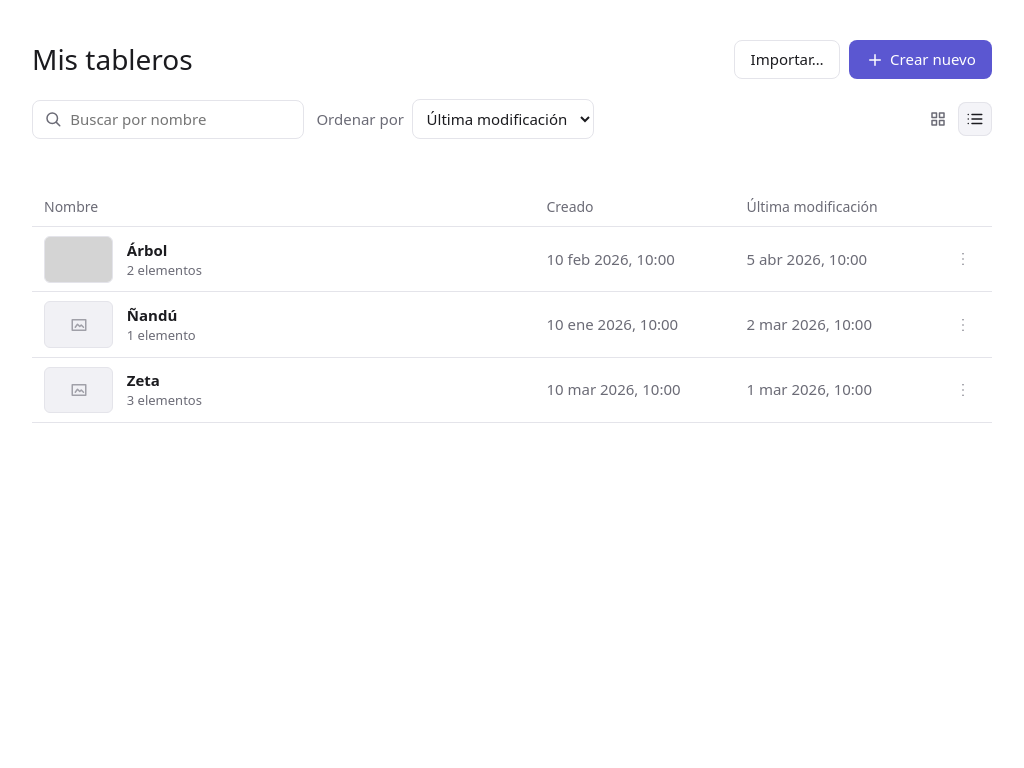
Test: delete › asks first, explains it goes to the trash, and only then deletes
Check: the heading "Mis tableros" is shown, box 32,40 -> 193,79
Check: the link "Ñandú" is shown, box 127,305 -> 177,325
Click the button named "Opciones de «Zeta»": x=963, y=390 946,373 -> 980,407
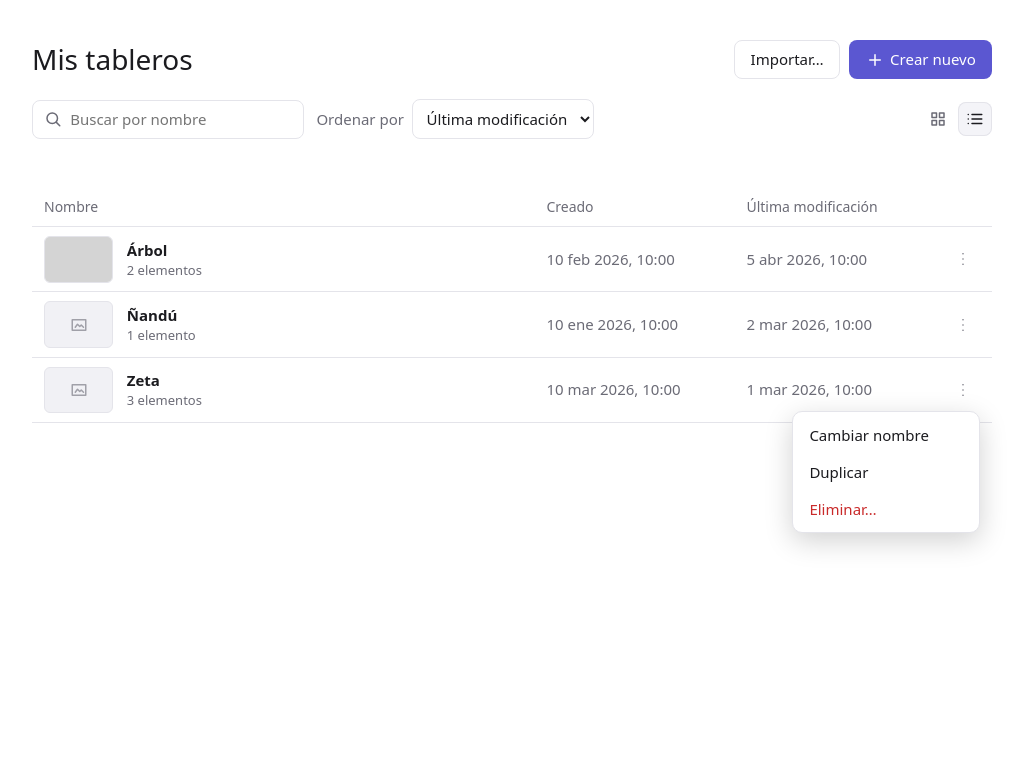
Click the menu item "Eliminar…": x=886, y=509 798,490 -> 974,528
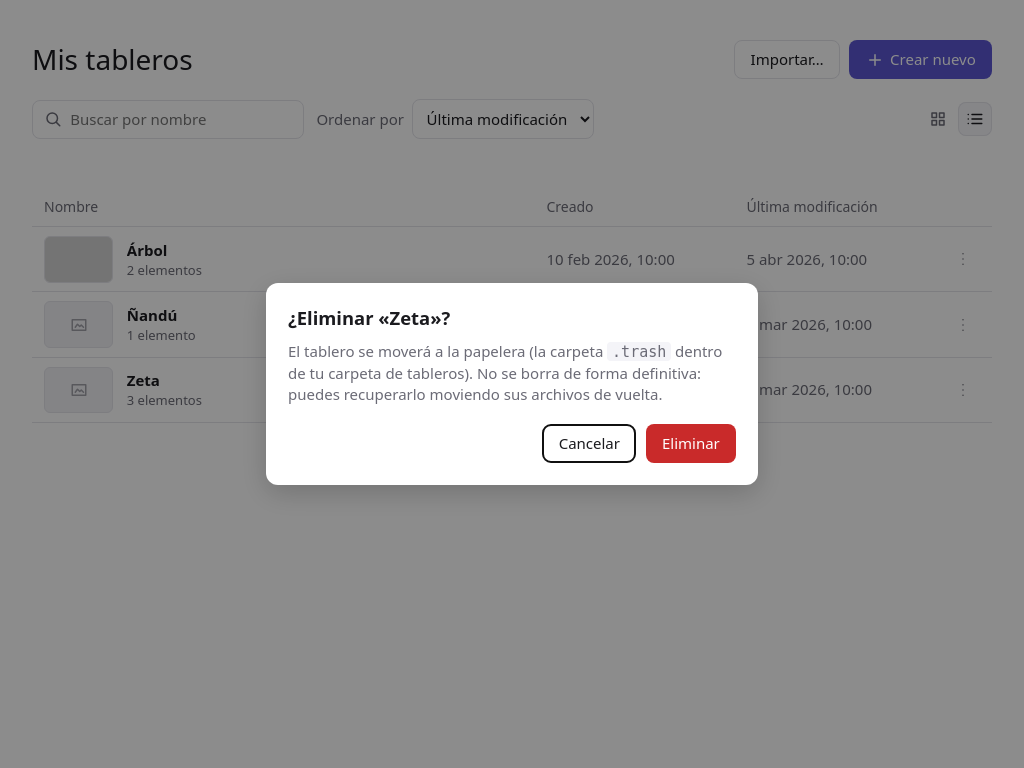
Check: the heading "¿Eliminar «Zeta»?" is shown, box 288,305 -> 450,330
Check: the dialog shows "papelera", box 288,341 -> 607,361
Click the button "Eliminar": x=691, y=443 646,424 -> 736,463
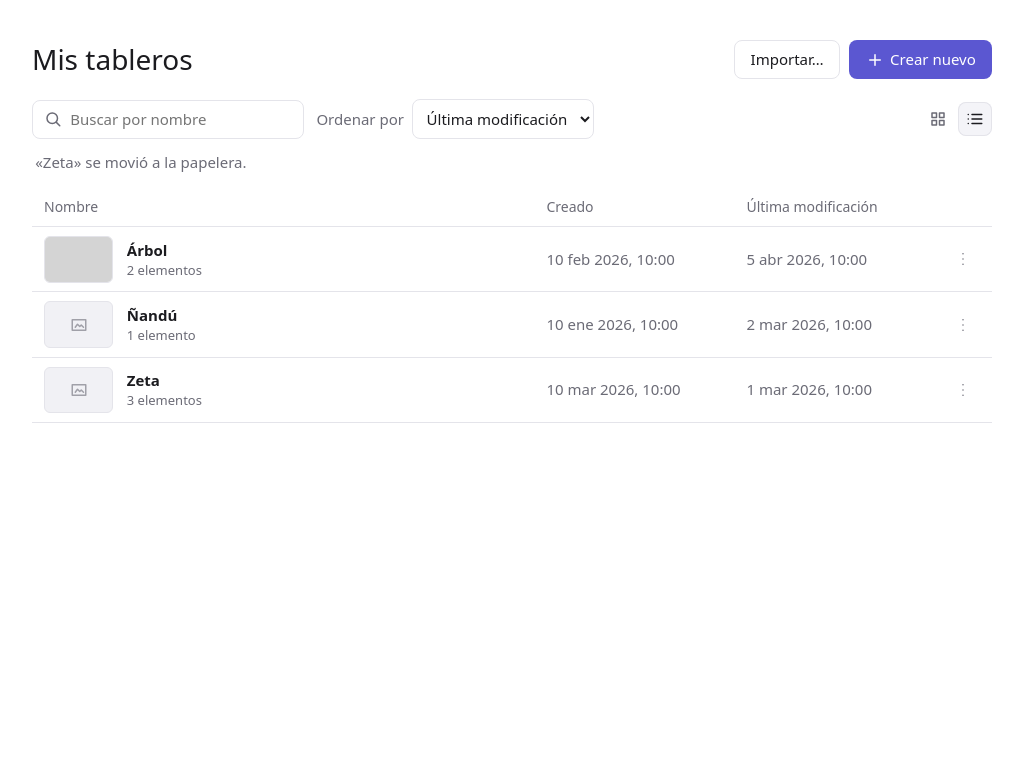
Check: the text "«Zeta» se movió a la papelera." is shown, box 35,152 -> 246,172
Check: the dialog is gone
